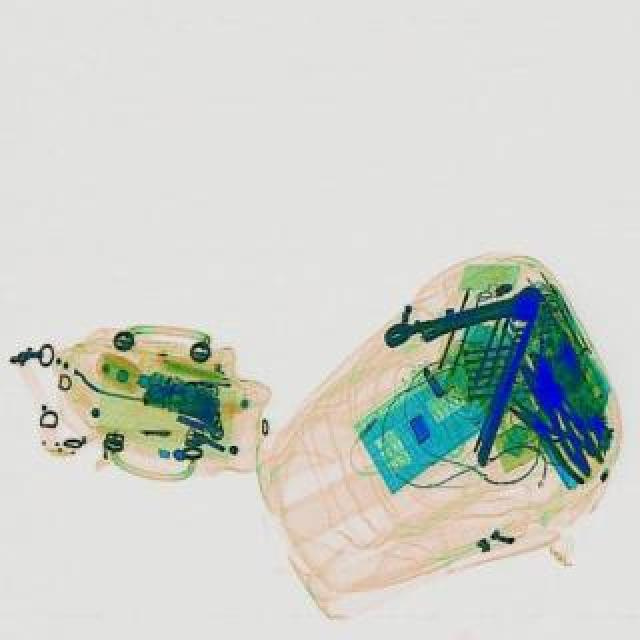scissors: (380, 280, 552, 354)
wrench: (504, 358, 604, 478), (492, 384, 608, 484)
